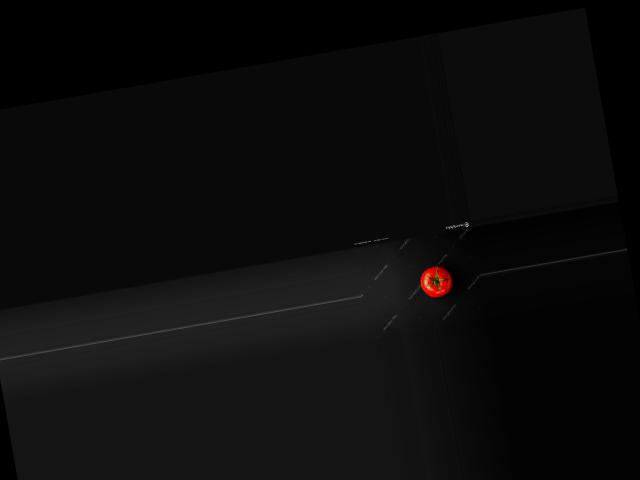tomato: (417, 263, 454, 299)
